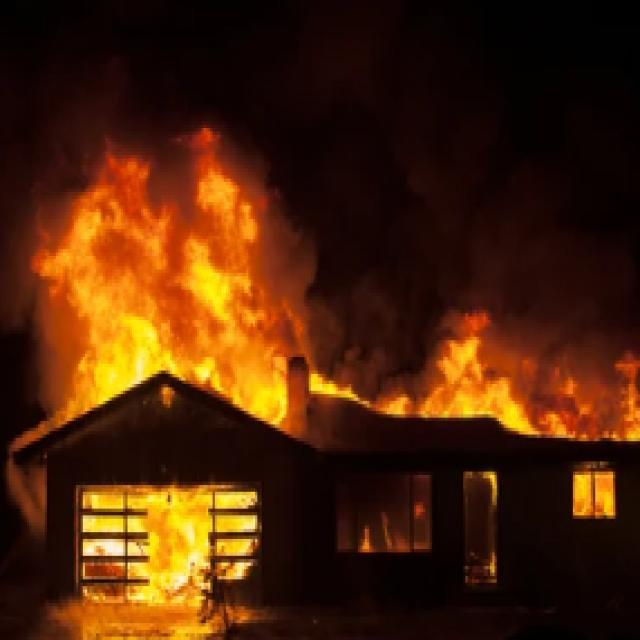Fire: (30, 134, 640, 452), (74, 484, 262, 619)
